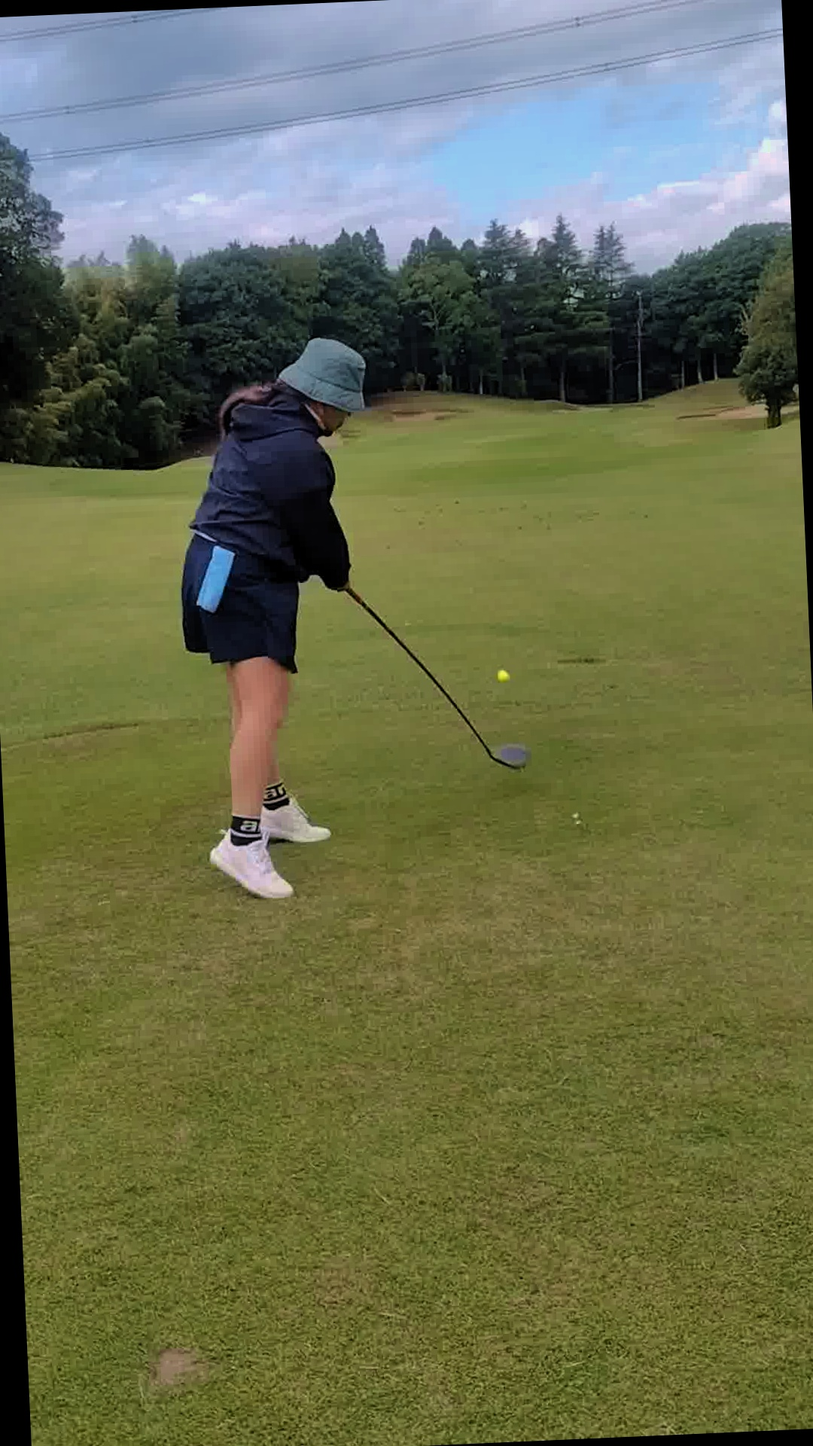clubhead: (318, 636, 654, 921)
